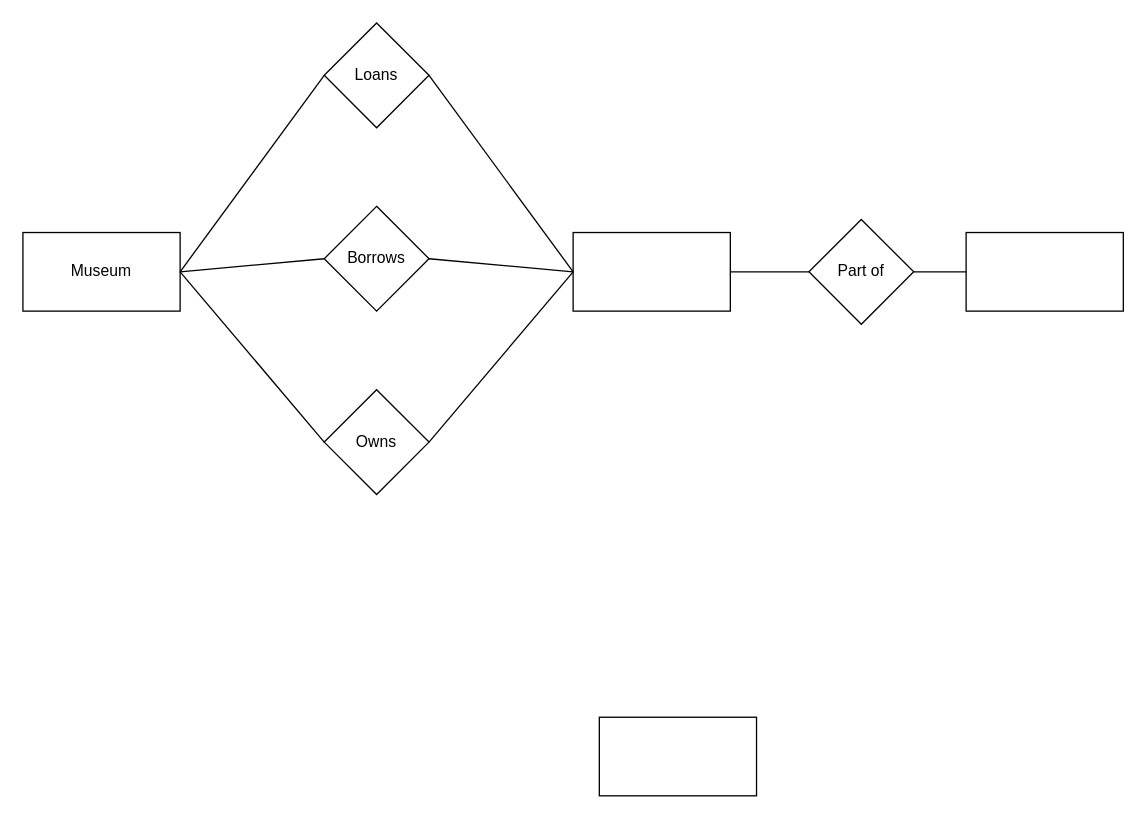
Some shapes in this 1146 by 819 pixel diagram are drawn without their labels. Each missing label, with the box of its shape:
Art Items: (572, 231, 730, 311)
Collection: (965, 231, 1123, 311)
Exhibition: (598, 716, 757, 796)
